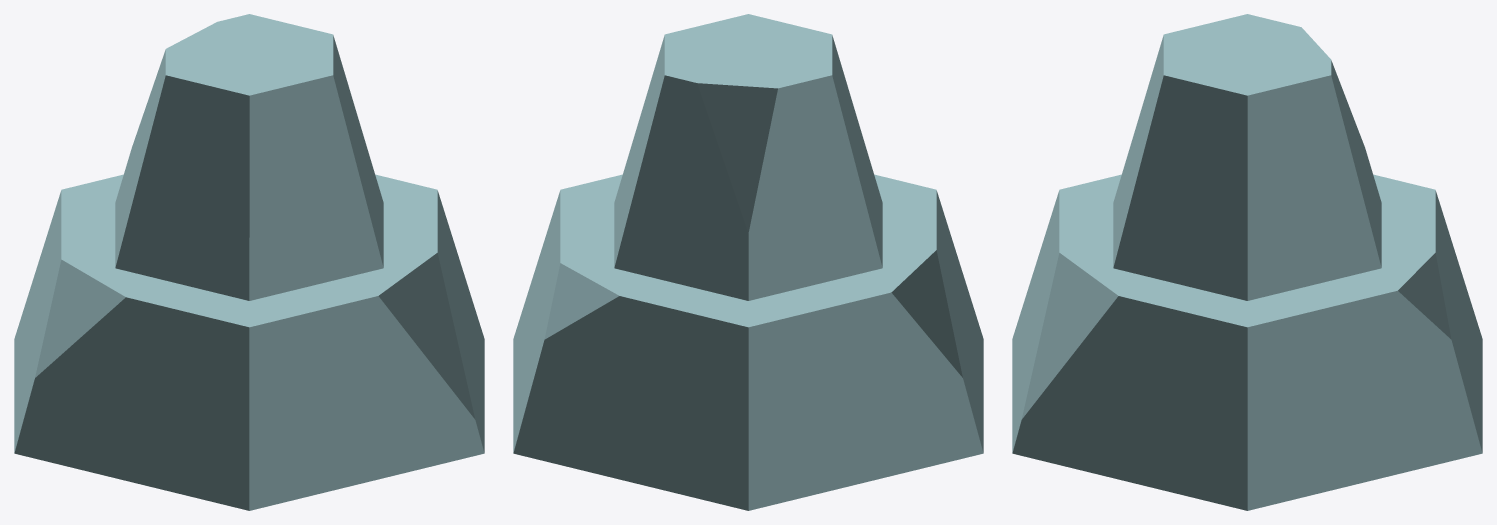
File: stone_small6.obj
The picture shows the model from 3 angles, left to right: view 1: azimuth 30°, elevation 25°; view 2: azimuth 150°, elevation 25°; view 3: azimuth 270°, elevation 25°; orthographic projection.
Visible parts, largest first — view 1: stone_small6; view 2: stone_small6; view 3: stone_small6.
Part boxes in pixels (<box>): stone_small6: <box>14,14,484,510</box>; stone_small6: <box>513,14,983,510</box>; stone_small6: <box>1012,14,1482,510</box>.
Bounding box in the file's own units: 3.54 × 2.45 × 3.06.
